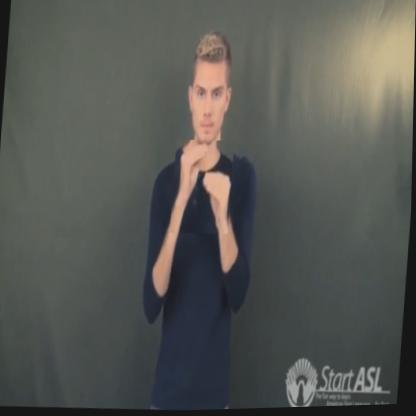Fix: (171, 139, 235, 236)
